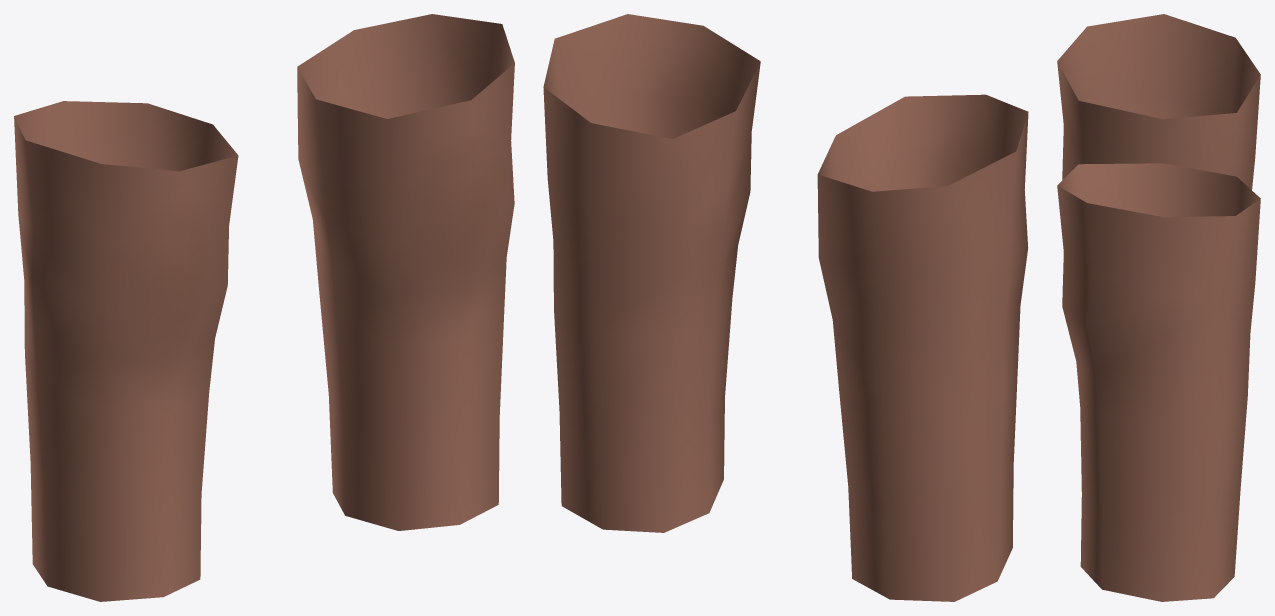
Rendered from Body_Brown_LegB_2.fbx.
3 renders of one model, left to right at view 1: azimuth 30°, elevation 25°; view 2: azimuth 150°, elevation 25°; view 3: azimuth 270°, elevation 25°, orthographic. The views are drawn at different scales.
Visible parts, largest first — view 1: Body_Brown_LegB_2; view 2: Body_Brown_LegB_2; view 3: Body_Brown_LegB_2.
Boxes of the visible parts, box(x1,y1,x2,y2) form: Body_Brown_LegB_2: box(14, 14, 514, 601); Body_Brown_LegB_2: box(543, 14, 1028, 601); Body_Brown_LegB_2: box(1057, 14, 1260, 601).
Size of the model in its own units: 32.69 by 29.91 by 13.84.
